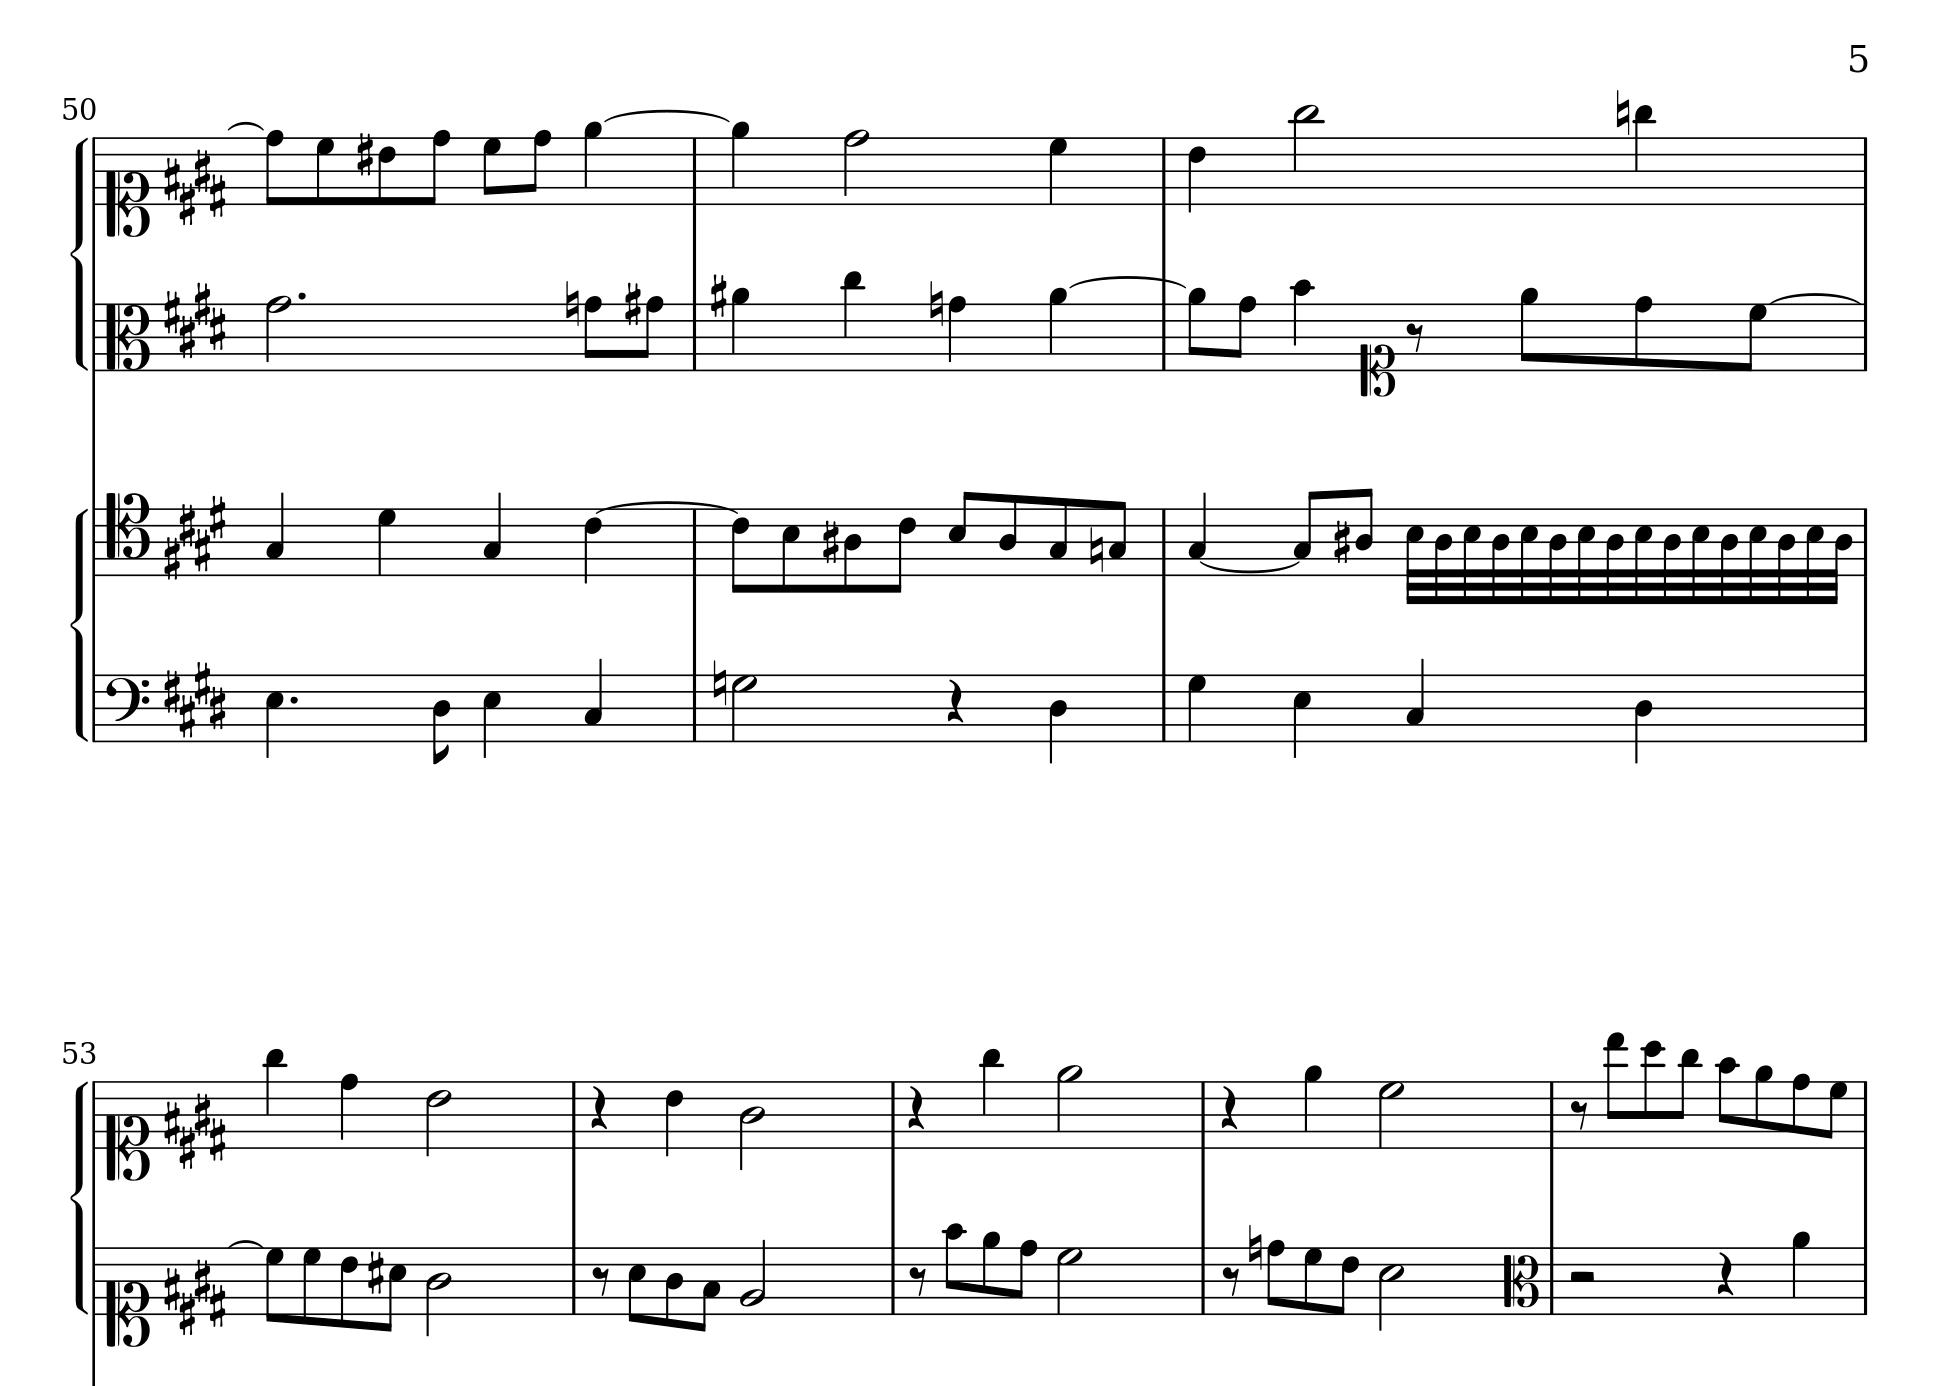0: (79, 94, 96, 121)
2_11: (1290, 102, 1321, 205)
2_2: (738, 1237, 766, 1315)
2_4: (738, 1078, 766, 1171), (424, 1245, 451, 1335)
2_5: (1377, 1245, 1407, 1330)
2_6: (424, 1078, 451, 1156)
2_7: (264, 294, 289, 370), (1377, 1078, 1404, 1149), (1056, 1245, 1083, 1315), (730, 673, 757, 742)
2_8: (841, 127, 868, 205)
2_9: (1056, 1062, 1083, 1150)
3: (79, 1038, 97, 1066)
32_4: (1828, 505, 1855, 604), (1548, 505, 1569, 606), (1662, 505, 1683, 606), (1719, 505, 1740, 606), (1432, 505, 1453, 604), (1605, 505, 1626, 604), (1776, 505, 1797, 604), (1491, 505, 1510, 604)
32_5: (1575, 505, 1597, 604), (1404, 505, 1425, 604), (1461, 505, 1482, 604), (1518, 505, 1539, 604), (1633, 505, 1654, 604), (1690, 505, 1711, 604), (1747, 505, 1768, 604), (1804, 505, 1824, 604)
4_10: (1290, 277, 1314, 373)
4_11: (979, 1045, 1003, 1150)
4_3: (1186, 490, 1209, 576), (1404, 657, 1426, 742), (264, 492, 286, 574), (481, 490, 502, 576), (583, 657, 604, 742)
4_4: (1047, 673, 1069, 765), (1633, 672, 1654, 765)
4_5: (262, 672, 285, 760), (1290, 672, 1312, 760), (481, 672, 502, 760)
4_6: (946, 291, 967, 372), (582, 505, 603, 585), (664, 1078, 684, 1158), (1188, 135, 1207, 213)
4_7: (1047, 135, 1069, 205), (1186, 673, 1209, 742), (376, 505, 397, 576)
4_8: (339, 1071, 358, 1149)
4_9: (729, 283, 750, 372), (1047, 285, 1068, 372), (1302, 1062, 1323, 1149), (1791, 1228, 1812, 1315), (730, 118, 750, 205), (583, 120, 603, 205)
5: (1848, 39, 1870, 75), (61, 1036, 79, 1065), (61, 94, 78, 121)
8_10: (942, 1219, 966, 1315), (1717, 1054, 1740, 1147)
8_11: (1674, 1045, 1701, 1149), (840, 267, 865, 373), (1632, 100, 1656, 207), (262, 1044, 286, 1150)
8_12: (1641, 1036, 1666, 1149)
8_13: (1602, 1029, 1629, 1150)
8_3: (1291, 489, 1321, 577), (691, 1246, 721, 1333), (1047, 496, 1071, 577), (1107, 499, 1128, 576)
8_4: (997, 492, 1020, 577), (1354, 484, 1375, 576), (430, 673, 451, 765), (841, 505, 862, 594), (663, 1246, 684, 1327)
8_5: (946, 489, 976, 577), (381, 1243, 408, 1333), (778, 505, 801, 595), (625, 1245, 646, 1324)
8_6: (886, 505, 918, 595), (730, 505, 751, 595), (1335, 1245, 1360, 1315), (337, 1245, 358, 1330), (376, 135, 397, 205)
8_7: (1738, 300, 1767, 370), (1822, 1078, 1848, 1147), (300, 1245, 321, 1326), (264, 1246, 283, 1323), (313, 135, 334, 205), (1302, 1245, 1323, 1315), (481, 136, 502, 205)
8_8: (421, 127, 451, 207), (1227, 292, 1257, 372), (523, 127, 552, 205), (637, 294, 664, 373), (1011, 1237, 1038, 1315), (582, 292, 604, 373), (264, 127, 285, 205), (1632, 294, 1653, 372), (1791, 1071, 1812, 1149), (1266, 1237, 1287, 1315)
8_9: (1186, 286, 1207, 373), (981, 1228, 1002, 1315), (1518, 286, 1539, 372), (1755, 1063, 1774, 1147)
Brace: (69, 133, 90, 372), (69, 1075, 88, 1318), (69, 502, 88, 744)
Cclef: (103, 301, 148, 370), (1501, 1245, 1540, 1314)
E_S: (160, 493, 229, 580), (160, 1254, 229, 1333), (160, 658, 228, 739), (162, 145, 228, 226), (160, 1090, 228, 1168), (162, 280, 226, 358)
Fclef: (103, 670, 148, 742)
Natural: (562, 277, 580, 328), (709, 658, 727, 708), (1614, 88, 1632, 136), (927, 277, 943, 328), (1089, 523, 1105, 574), (1246, 1222, 1263, 1270)
Rests2: (1566, 1267, 1599, 1285)
Rests4: (943, 676, 966, 724), (1714, 1249, 1737, 1297), (586, 1084, 609, 1131), (904, 1084, 927, 1131), (1218, 1084, 1240, 1131)
Rests8: (1404, 319, 1428, 354), (589, 1264, 612, 1297), (907, 1263, 928, 1297), (1221, 1264, 1242, 1297), (1569, 1098, 1590, 1129)
Sharp: (819, 517, 840, 567), (706, 271, 727, 319), (1332, 517, 1351, 565), (366, 1248, 385, 1296), (622, 280, 642, 327), (355, 130, 373, 178)
Single_barline: (1155, 136, 1176, 202), (685, 136, 705, 202), (1155, 301, 1173, 367), (685, 303, 703, 369), (1155, 508, 1173, 574), (685, 508, 703, 574), (1155, 673, 1173, 739), (883, 1081, 901, 1147), (1194, 1081, 1212, 1147), (685, 673, 702, 739), (565, 1081, 582, 1147), (1543, 1081, 1560, 1147), (885, 1246, 901, 1312), (1195, 1246, 1212, 1312), (1857, 675, 1873, 739), (1543, 1246, 1560, 1311), (1857, 1248, 1873, 1312), (1857, 138, 1873, 201), (1858, 1080, 1873, 1147), (88, 1246, 103, 1314), (87, 138, 102, 204), (88, 508, 103, 574), (1858, 508, 1873, 574), (87, 1081, 102, 1147), (565, 1246, 580, 1312), (88, 301, 102, 370), (88, 673, 102, 741)
Slur: (591, 498, 741, 516), (604, 108, 727, 123), (1068, 274, 1185, 289), (1198, 559, 1300, 571), (1776, 292, 1854, 306), (226, 120, 264, 130), (228, 1237, 264, 1248)
Soprano_Cclef: (103, 1243, 150, 1347), (105, 1080, 148, 1180), (105, 136, 148, 235), (1357, 300, 1398, 397)
Tensor_Cclef: (103, 490, 148, 574)
dot: (286, 691, 300, 706), (294, 289, 307, 301)
